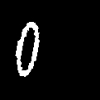chain: (16, 22, 38, 76)
